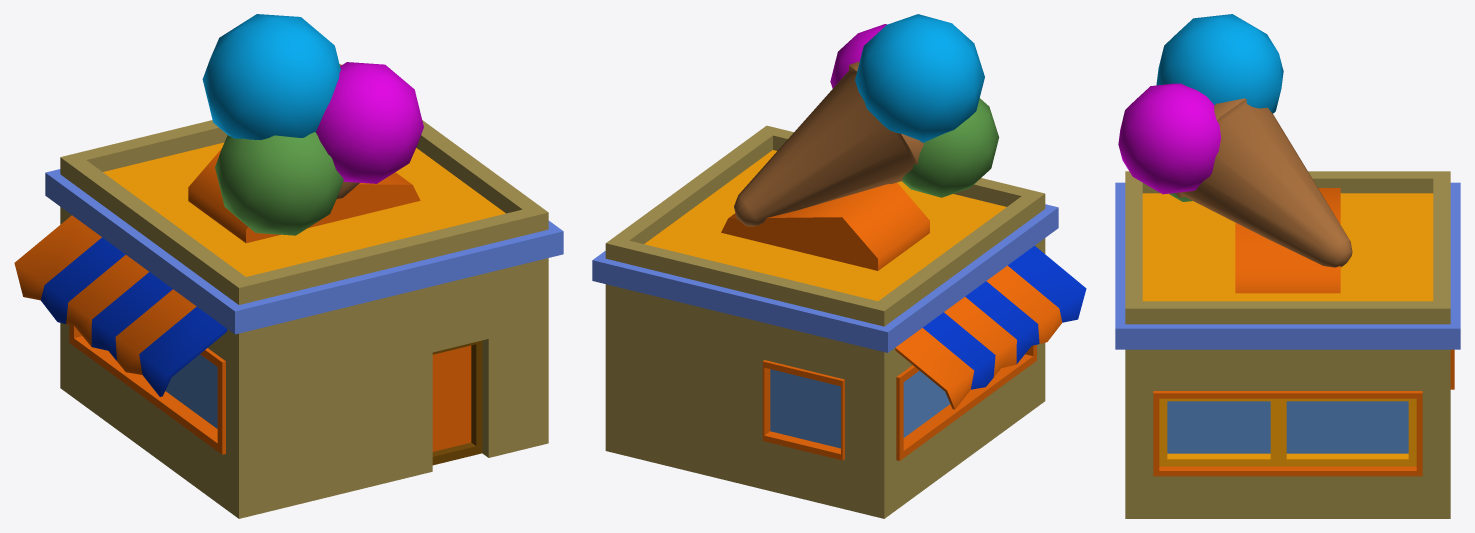
Rendered from IceCreamParlor.fbx.
3 renders of one model, left to right at view 1: azimuth 30°, elevation 25°; view 2: azimuth 150°, elevation 25°; view 3: azimuth 270°, elevation 25°, orthographic. The views are drawn at different scales.
Parts seen in each view (by area): view 1: IceCreamParlor; view 2: IceCreamParlor; view 3: IceCreamParlor.
Boxes of the visible parts, x1,y1,x2,y2 form: IceCreamParlor: (14, 14, 563, 518); IceCreamParlor: (592, 14, 1086, 518); IceCreamParlor: (1115, 14, 1460, 518).
Bounding box in the file's own units: 16.17 × 18.08 × 14.1.
